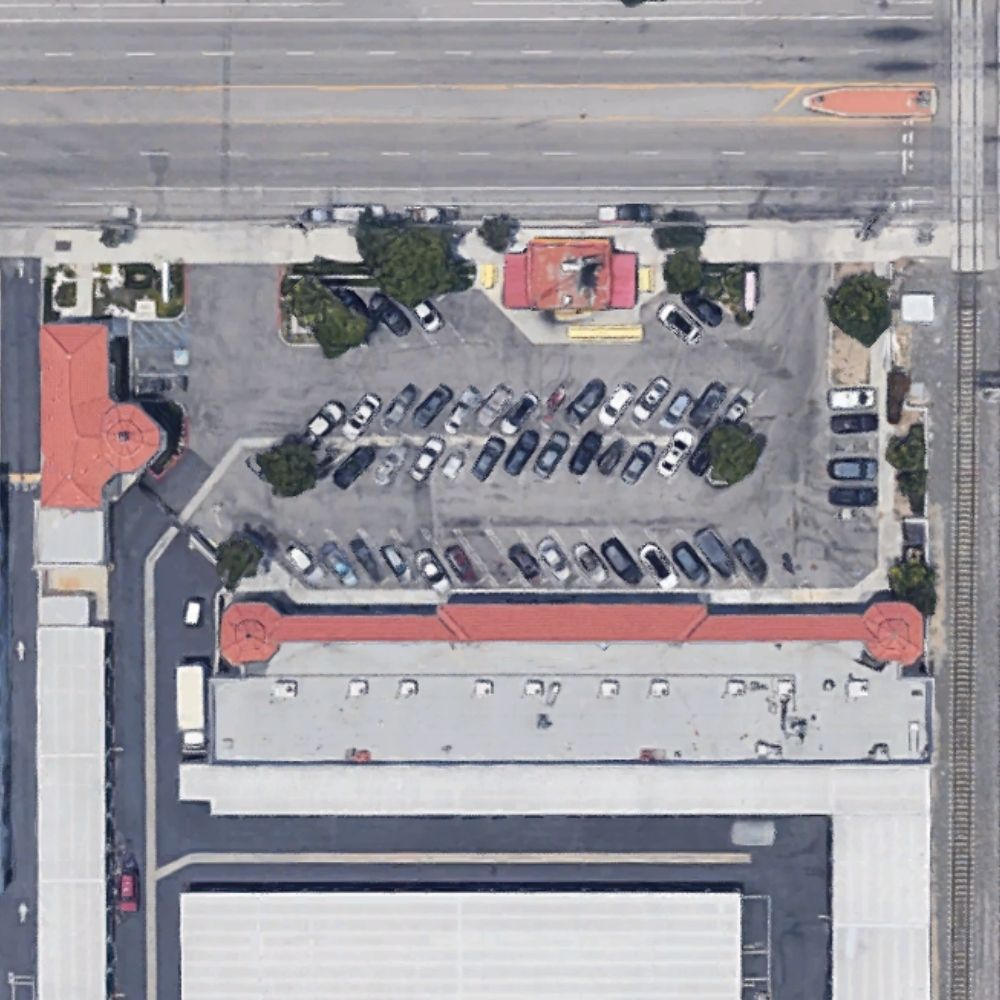parking: (125, 265, 900, 600)
